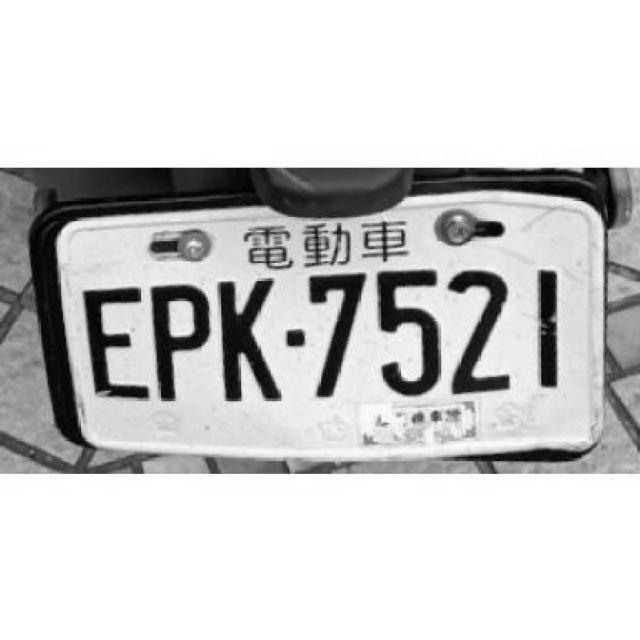-: (288, 326, 304, 345)
1: (538, 269, 558, 386)
2: (449, 269, 514, 397)
5: (375, 270, 440, 396)
7: (309, 271, 368, 398)
E: (78, 281, 148, 397)
K: (217, 277, 283, 401)
P: (147, 279, 206, 398)
